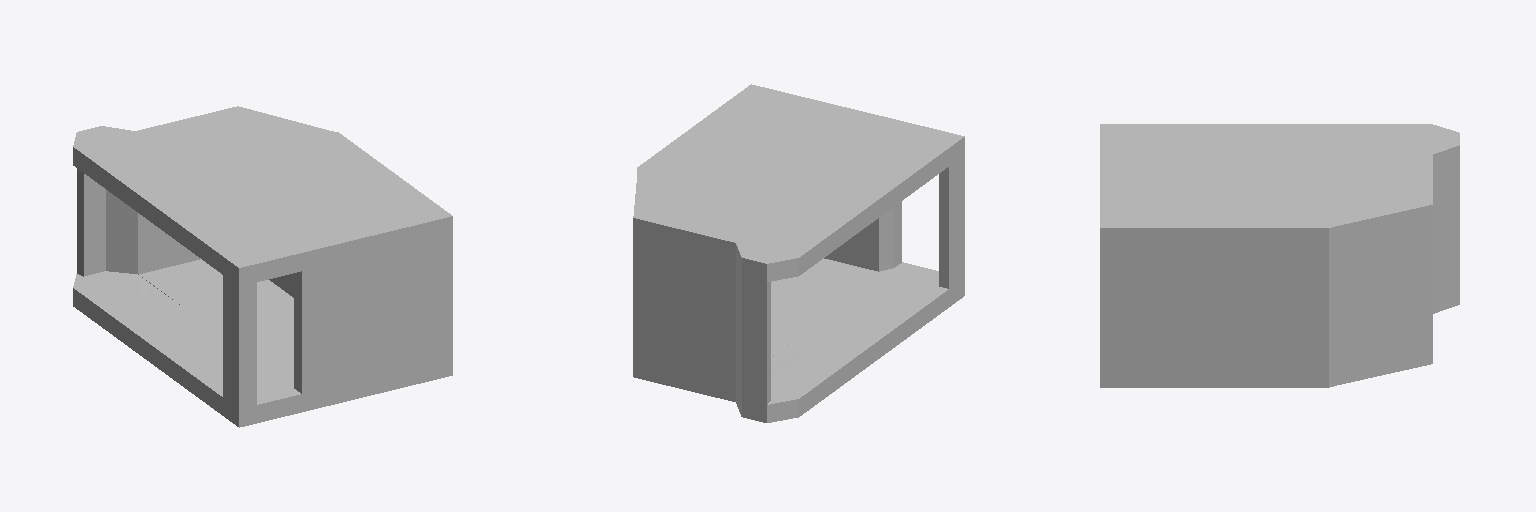
The model's file is medbay.obj.
3 renders of one model, left to right at view 1: azimuth 30°, elevation 25°; view 2: azimuth 150°, elevation 25°; view 3: azimuth 270°, elevation 25°, orthographic.
Parts seen in each view (by area): view 1: pPlane31; view 2: pPlane31; view 3: pPlane31.
Boxes of the visible parts, x1=… form: pPlane31: x1=73, y1=106, x2=452, y2=427; pPlane31: x1=633, y1=84, x2=964, y2=422; pPlane31: x1=1100, y1=124, x2=1459, y2=387.
Size of the model in its own units: 117 by 83.21 by 170.